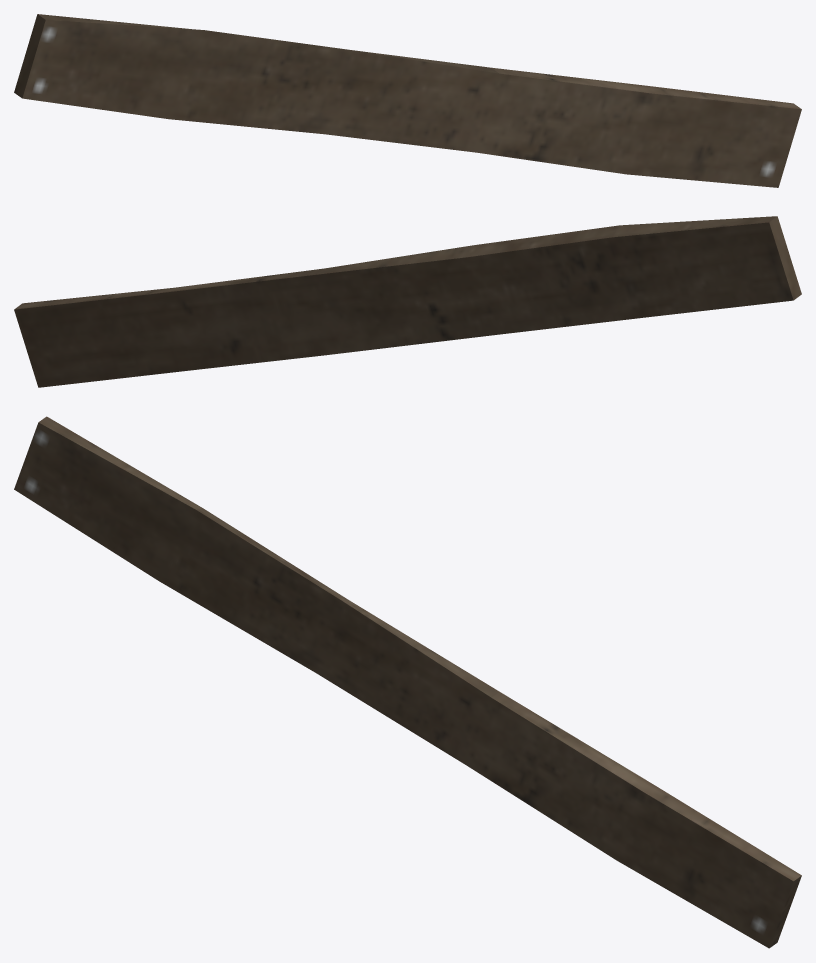
Rendered from FenceNailPlank_Center_03.fbx.
3 views of the same model, one above another, from view 1: azimuth 30°, elevation 25°; view 2: azimuth 150°, elevation 25°; view 3: azimuth 330°, elevation 25° (orthographic).
Visible parts, largest first — view 1: nail_plank.006; view 2: nail_plank.006; view 3: nail_plank.006.
Boxes of the visible parts, bbox=[...] form: nail_plank.006: bbox=[14, 14, 801, 187]; nail_plank.006: bbox=[14, 216, 801, 387]; nail_plank.006: bbox=[14, 416, 801, 948].
Size of the model in its own units: 6.31 by 2.67 by 0.1473.
